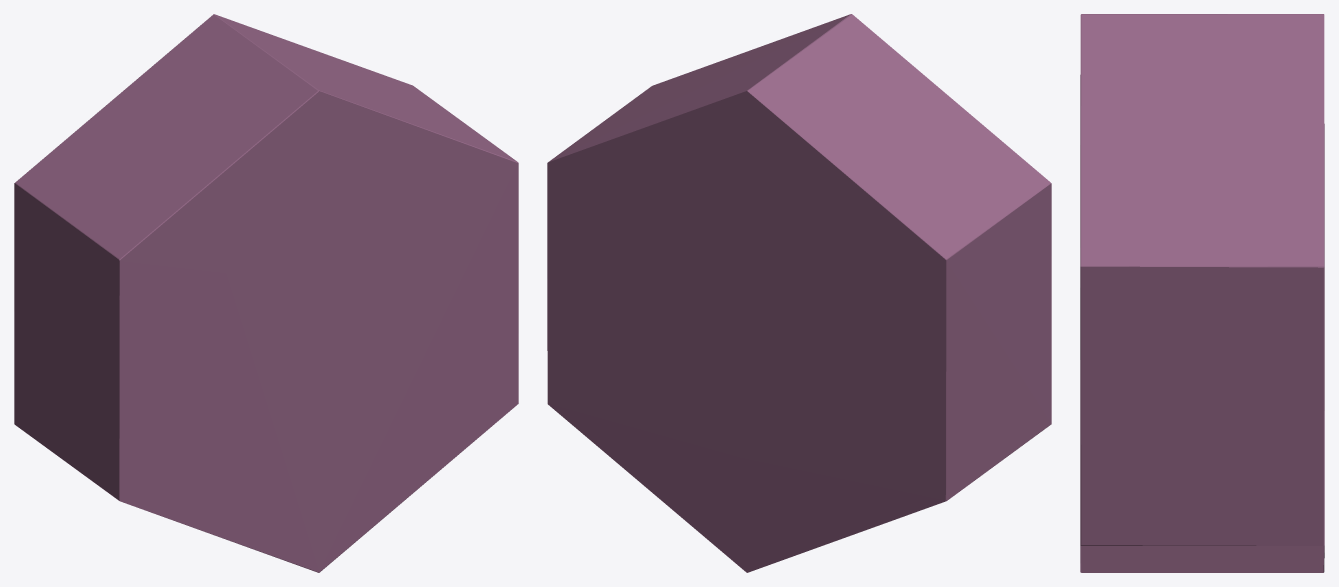
File: factory_nut_m4_loose.glb
3 views of the same model, side by side, from view 1: azimuth 30°, elevation 25°; view 2: azimuth 150°, elevation 25°; view 3: azimuth 270°, elevation 25° (orthographic). The views are drawn at different scales.
Visible parts, largest first — view 1: geometry_0; view 2: geometry_0; view 3: geometry_0.
Part boxes in pixels (x1=…): geometry_0: x1=14, y1=14, x2=518, y2=572; geometry_0: x1=547, y1=14, x2=1051, y2=572; geometry_0: x1=1080, y1=14, x2=1324, y2=572.
Bounding box in the file's own units: 0.4161 × 0.4798 × 0.1902.
